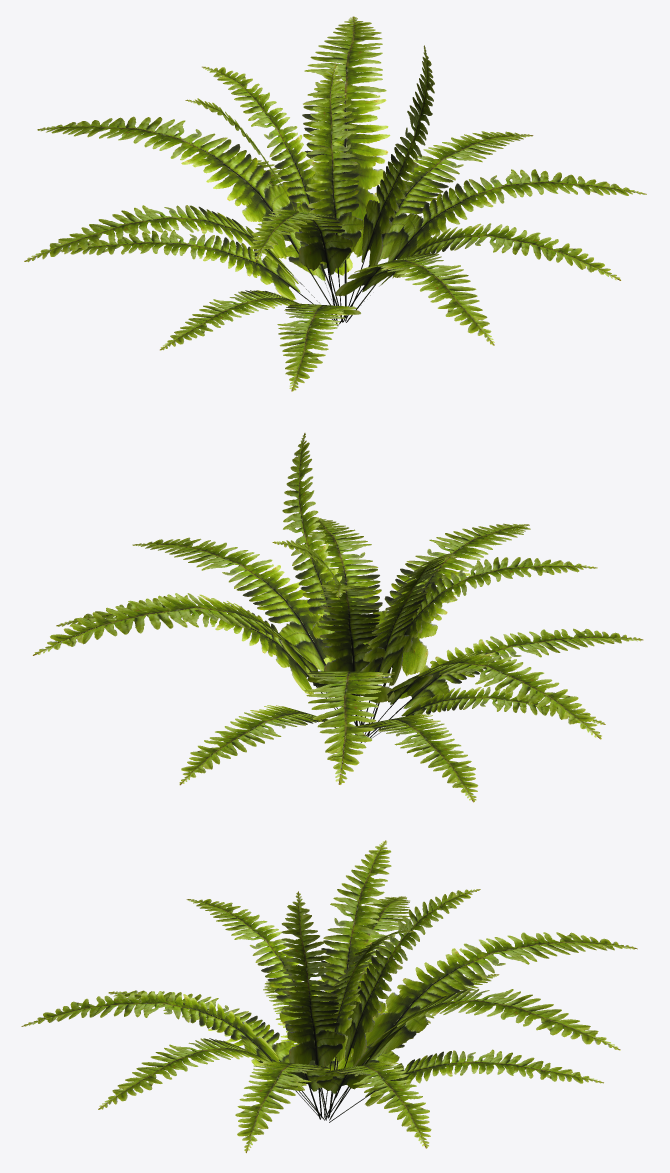
Rendered from fern.fbx.
The picture shows the model from 3 angles, top to bottom: view 1: azimuth 30°, elevation 25°; view 2: azimuth 150°, elevation 25°; view 3: azimuth 270°, elevation 25°; orthographic projection. The views are drawn at different scales.
Visible parts, largest first — view 1: fern.015; view 2: fern.015; view 3: fern.015.
Boxes of the visible parts, x1,y1,x2,y2 form: fern.015: (24, 16, 646, 391); fern.015: (32, 433, 643, 802); fern.015: (21, 840, 637, 1153).
Bounding box in the file's own units: 192 × 92.49 × 201.
